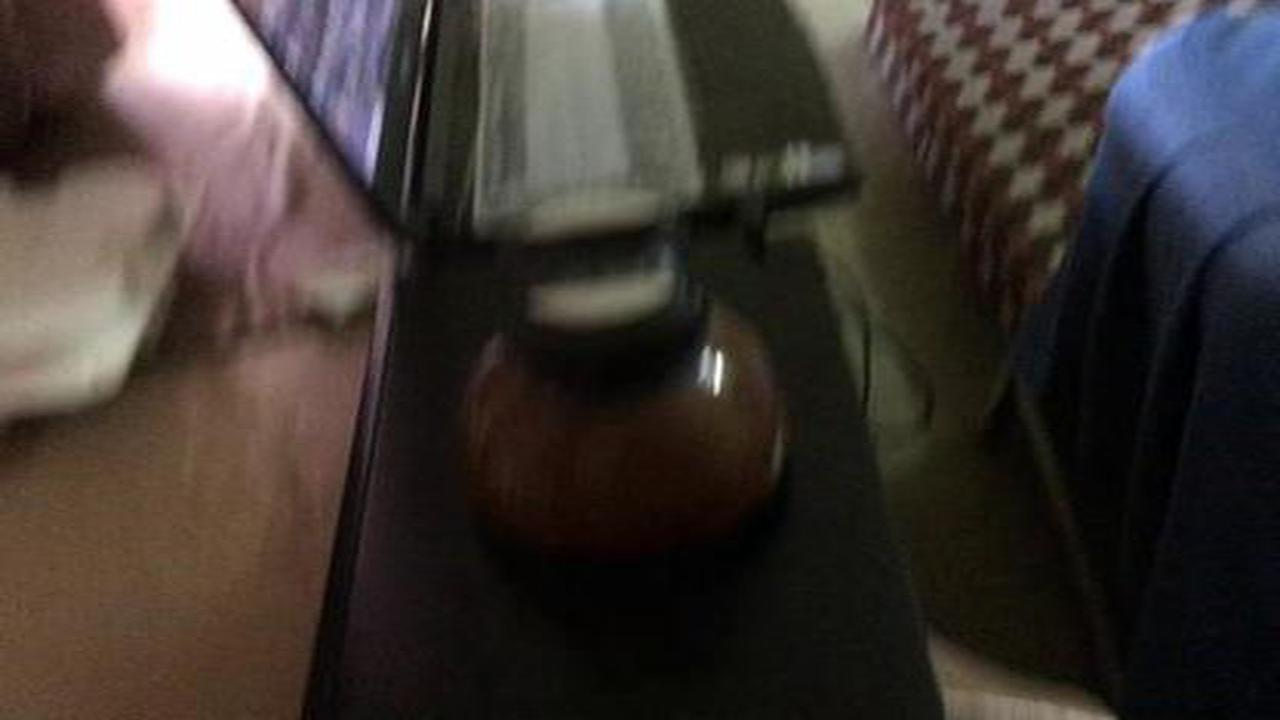insulator_pin: (434, 182, 813, 584)
